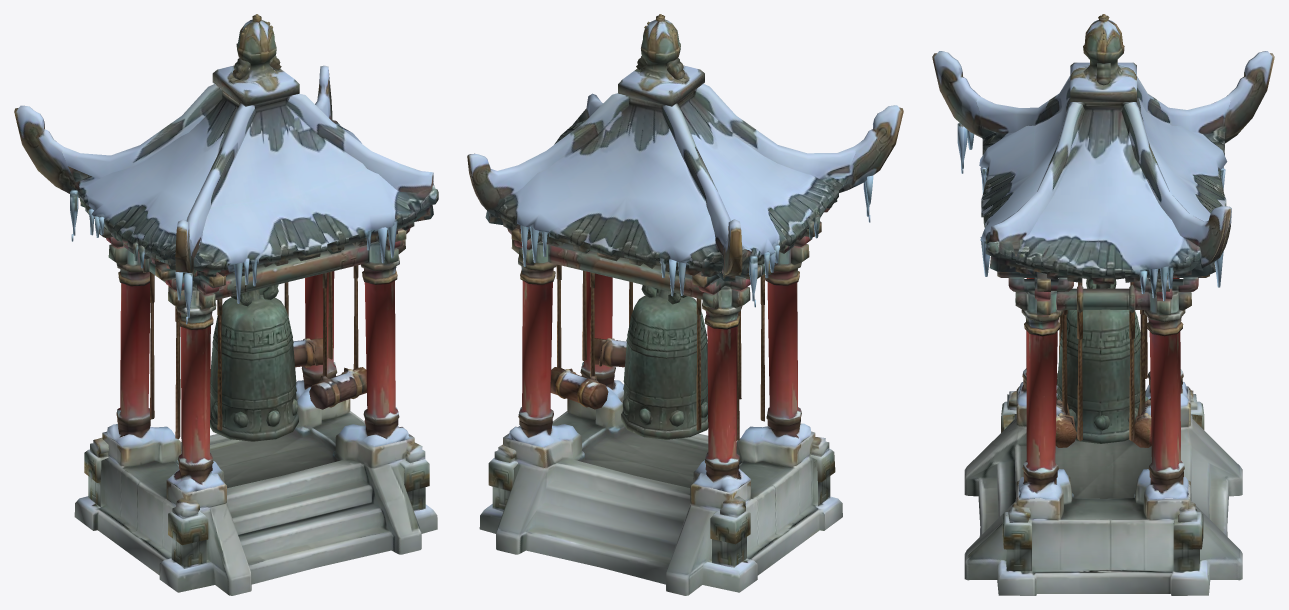
The model's file is SM_Tripo_FrostBellPavilion.glb.
3 views of the same model, side by side, from view 1: azimuth 30°, elevation 25°; view 2: azimuth 150°, elevation 25°; view 3: azimuth 270°, elevation 25° (orthographic).
Visible parts, largest first — view 1: SM_Tripo_FrostBellPavilion_LOD0; view 2: SM_Tripo_FrostBellPavilion_LOD0; view 3: SM_Tripo_FrostBellPavilion_LOD0.
Part boxes in pixels (x1,y1,x2,y2): SM_Tripo_FrostBellPavilion_LOD0: [14, 14, 438, 595]; SM_Tripo_FrostBellPavilion_LOD0: [467, 14, 903, 595]; SM_Tripo_FrostBellPavilion_LOD0: [932, 14, 1274, 595].
Bounding box in the file's own units: 5.14 × 8.5 × 5.09.
1 material, 1 textured.
